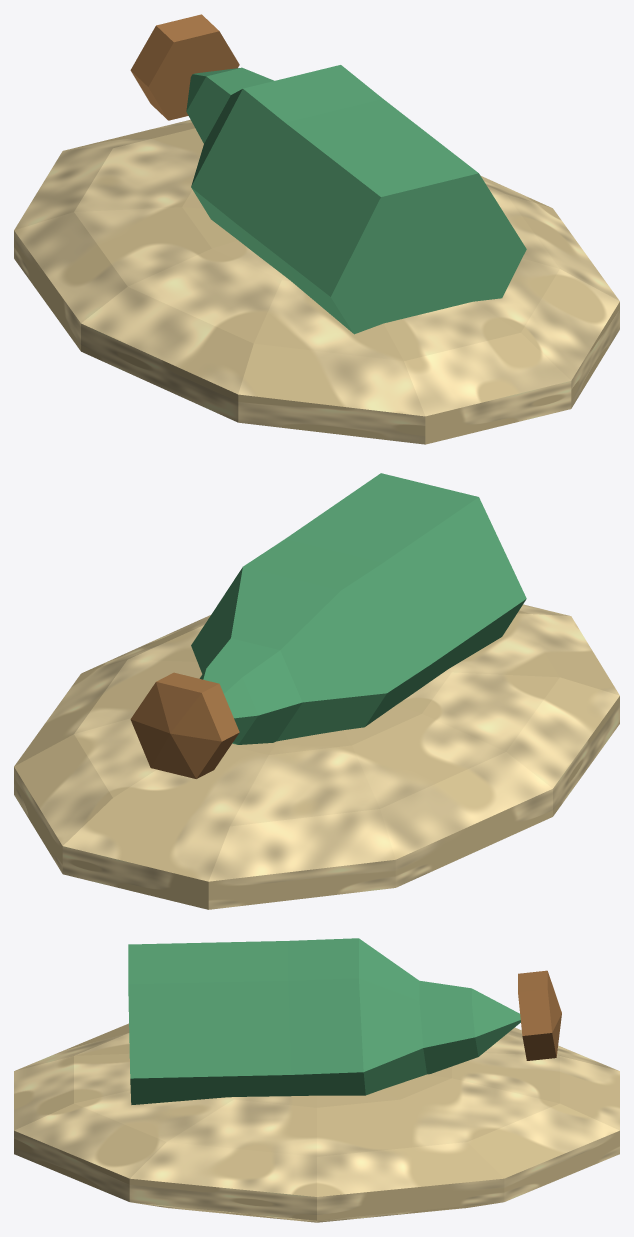
Rendered from MessageBottle.glb.
3 views of the same model, one above another, from view 1: azimuth 30°, elevation 25°; view 2: azimuth 150°, elevation 25°; view 3: azimuth 270°, elevation 25° (orthographic). The views are drawn at different scales.
Parts seen in each view (by area): view 1: MessageBottle; view 2: MessageBottle; view 3: MessageBottle.
Part boxes in pixels (x1=…): MessageBottle: x1=14, y1=14, x2=619, y2=444; MessageBottle: x1=14, y1=473, x2=619, y2=909; MessageBottle: x1=14, y1=938, x2=619, y2=1222.
Bounding box in the file's own units: 1.95 × 0.9801 × 2.6.
Materials: 1 (1 with a texture image).
